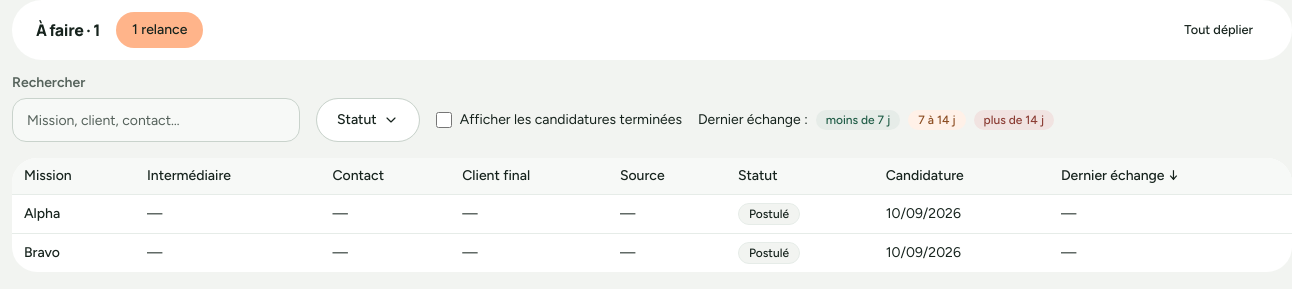
Test: JobApplicationsTable › keeps only the applications with a follow-up alert when the pill is clicked
Click the button "1 relance": (160, 30) [116,12,203,48]
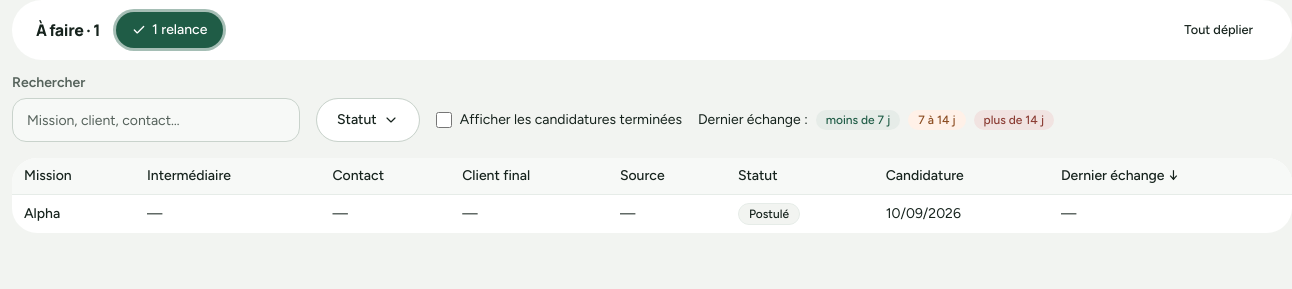
Check: the link "Alpha" is shown, box [24,205,60,222]
Check: the link "Bravo" is gone
Click the button "1 relance": (170, 30) [116,12,223,48]
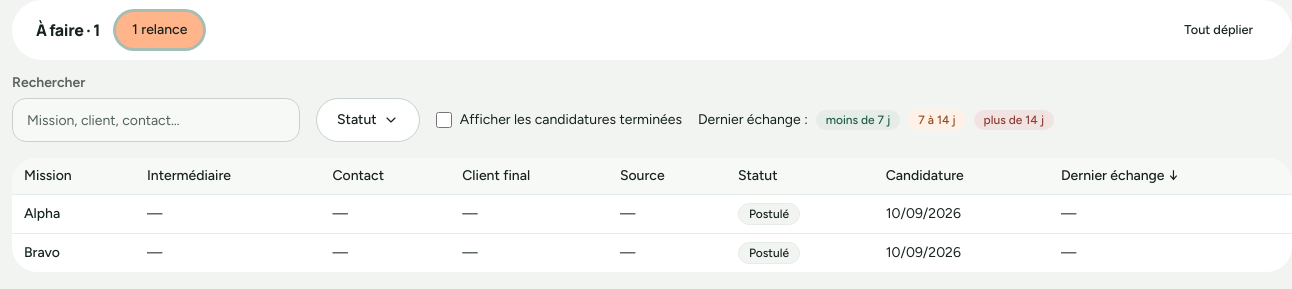
Check: the link "Bravo" is shown, box [24,244,60,261]
